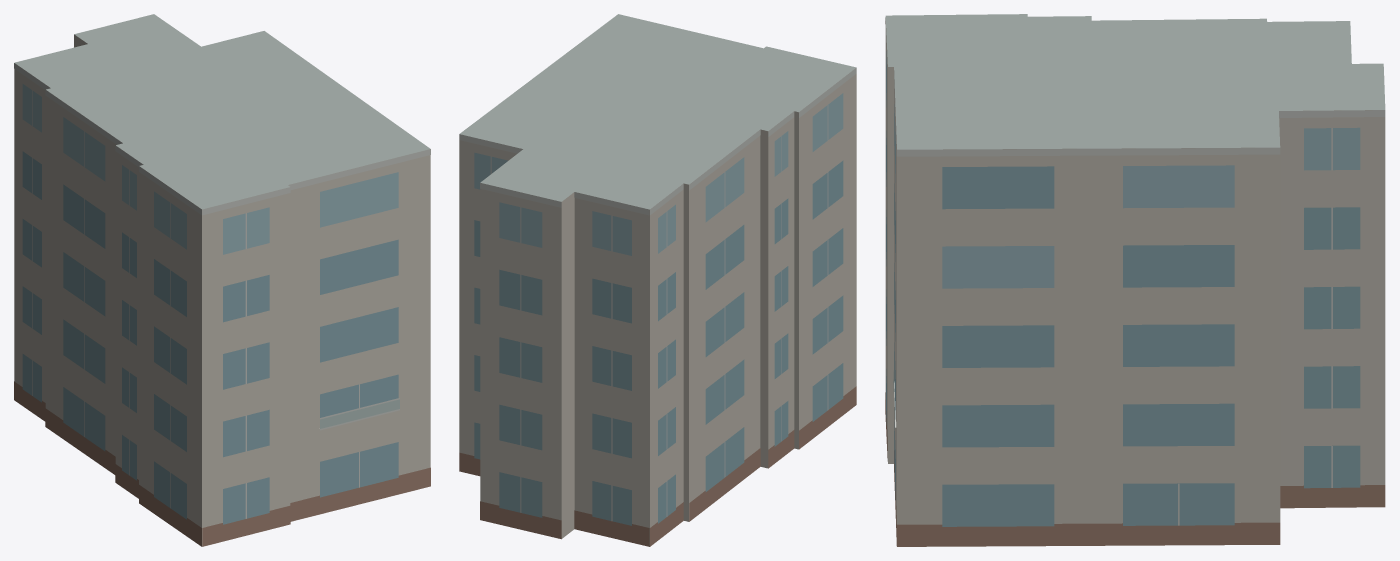
File: survey-upis-32543214.glb
The picture shows the model from 3 angles, left to right: view 1: azimuth 30°, elevation 25°; view 2: azimuth 150°, elevation 25°; view 3: azimuth 270°, elevation 25°; orthographic projection. The views are drawn at different scales.
Parts seen in each view (by area): view 1: survey-upis-32543214.tmp; view 2: survey-upis-32543214.tmp; view 3: survey-upis-32543214.tmp.
Part boxes in pixels (x1,y1,x2,y2): survey-upis-32543214.tmp: (14, 14, 430, 546); survey-upis-32543214.tmp: (459, 14, 856, 546); survey-upis-32543214.tmp: (885, 14, 1385, 546).
Size of the model in its own units: 10.12 by 13.8 by 15.75.
